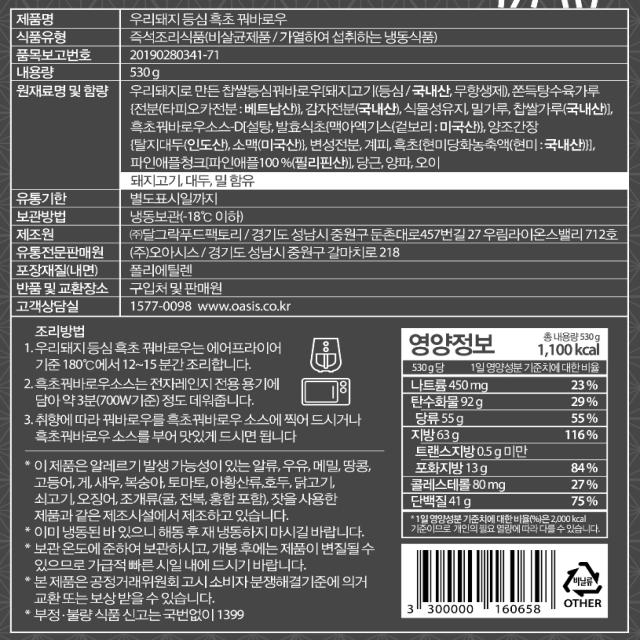Nutrition Label: (383, 323, 626, 542)
